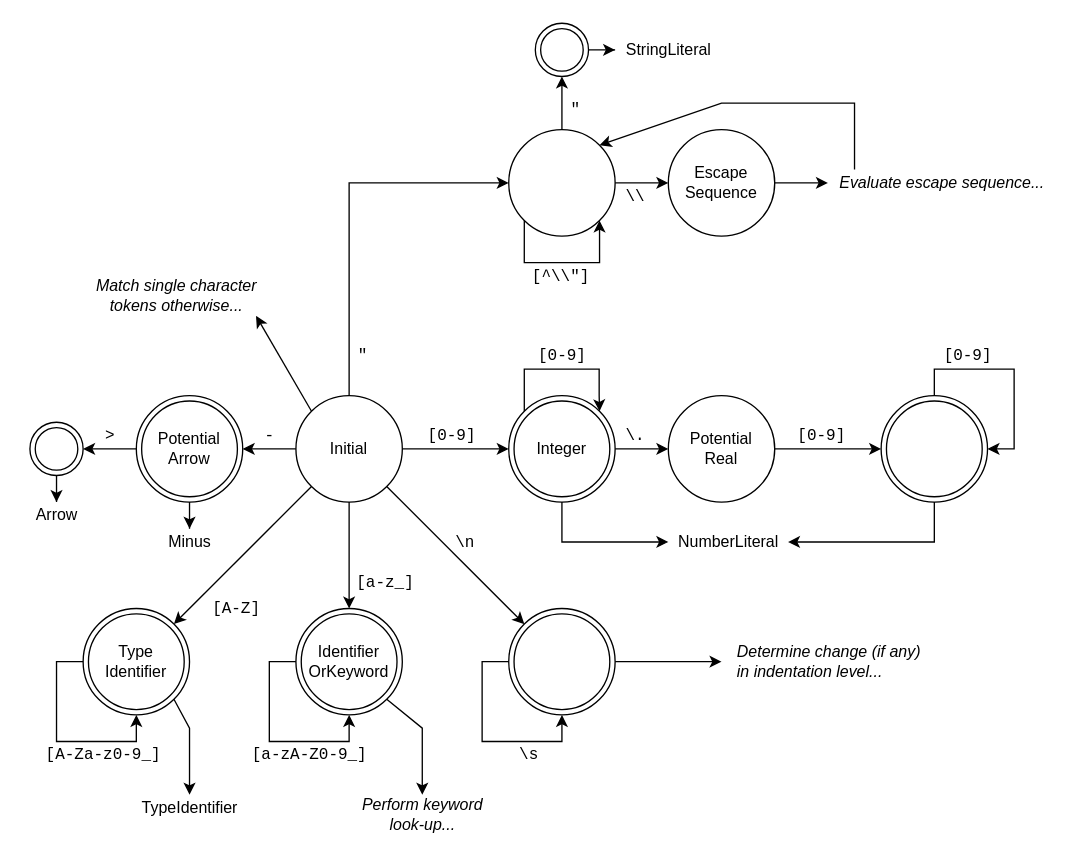
Some shapes in this 1085 by 858 pixel diagram are drawn without their labels. Here are the shapes that lost their labels. From the top down, the box of each, then its label:
(507, 128, 615, 236): String
(880, 394, 988, 502): Real
(507, 607, 615, 715): Newline
